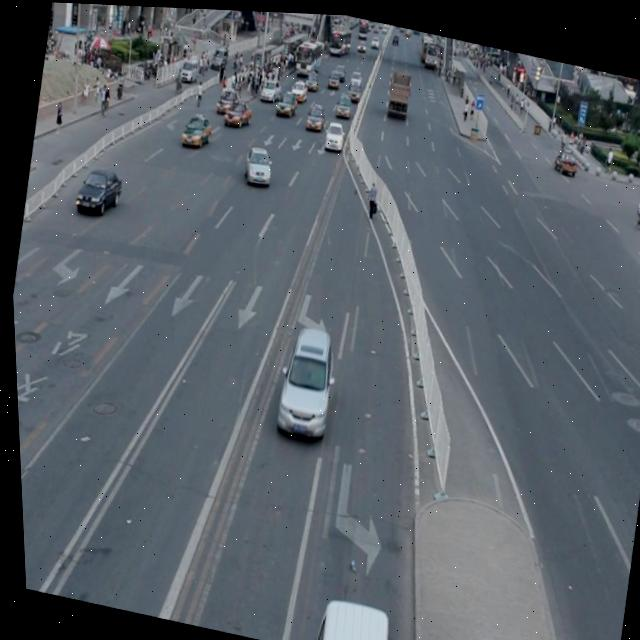car: (265, 318, 339, 440), (69, 160, 124, 220), (238, 139, 276, 185), (177, 110, 212, 150)
truck: (304, 585, 391, 640)
